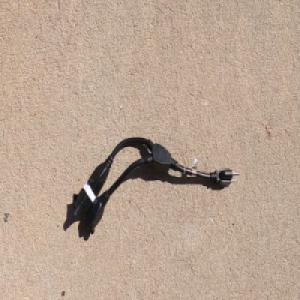Wire: (71, 135, 240, 238)
